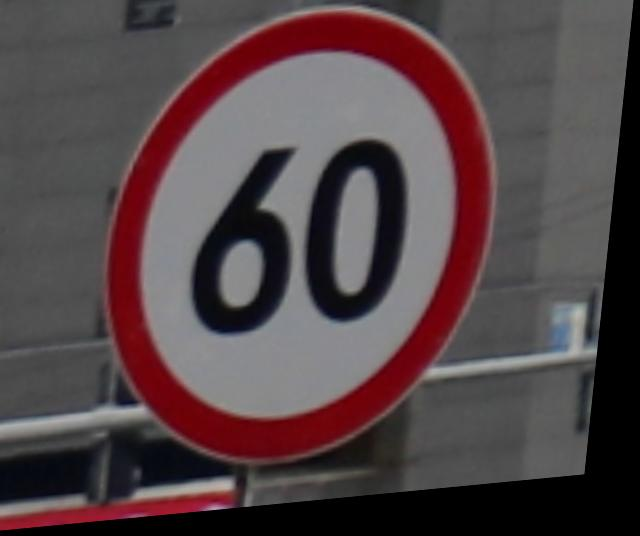limit60: (84, 0, 527, 491)
